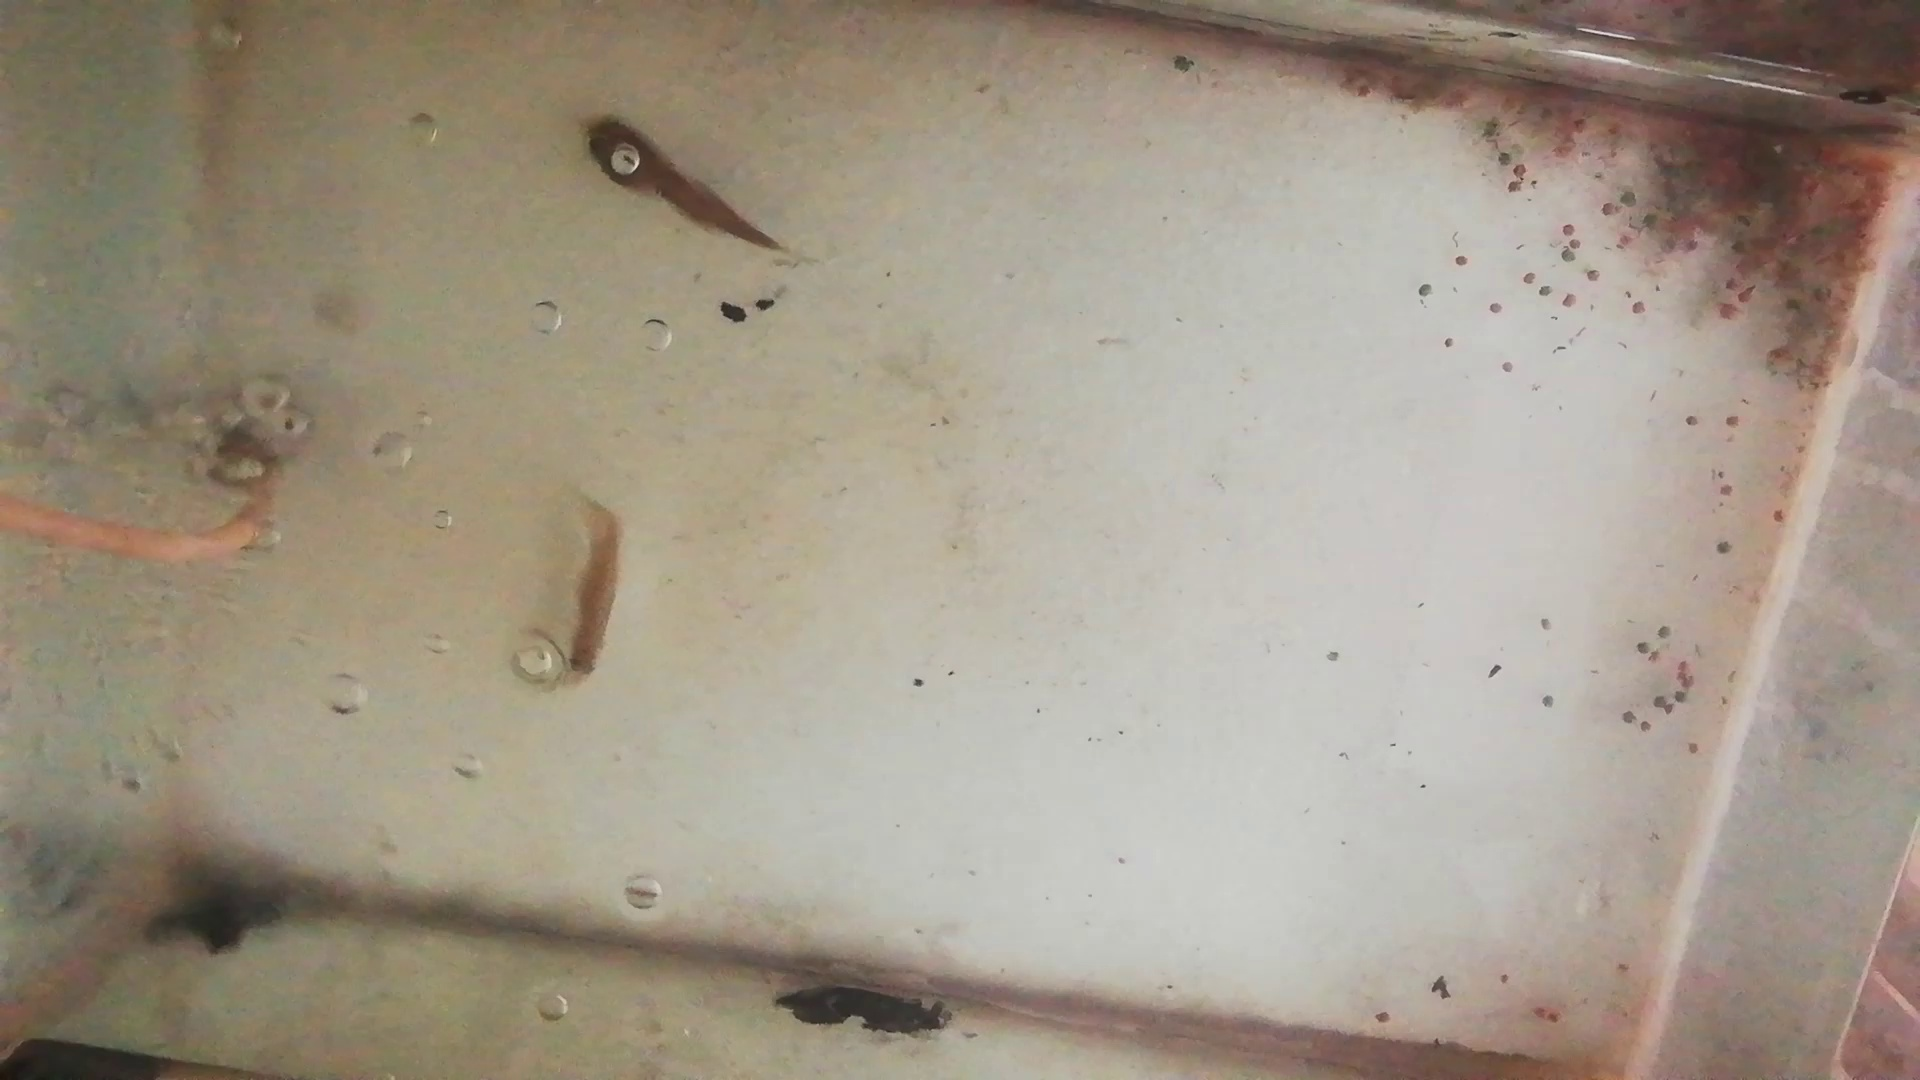fish: (580, 116, 777, 245), (564, 501, 624, 676)
